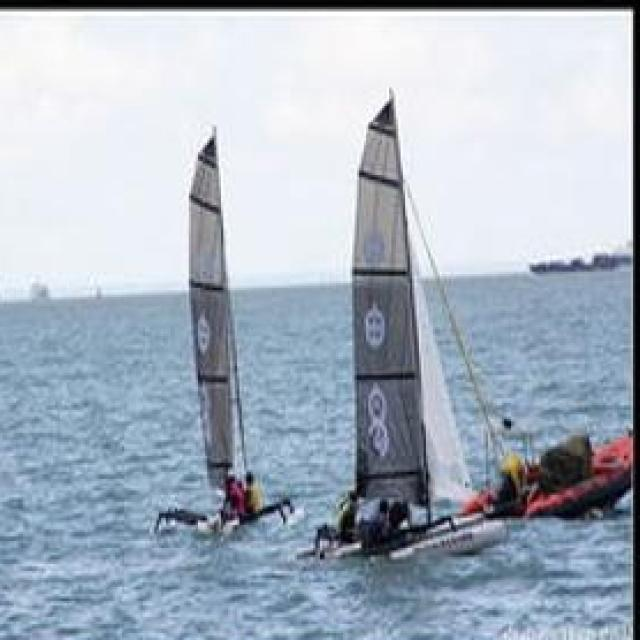sailboat: (310, 64, 516, 563), (145, 114, 301, 540)
